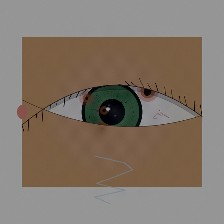foreign_body_visible: (123, 71, 172, 111)
